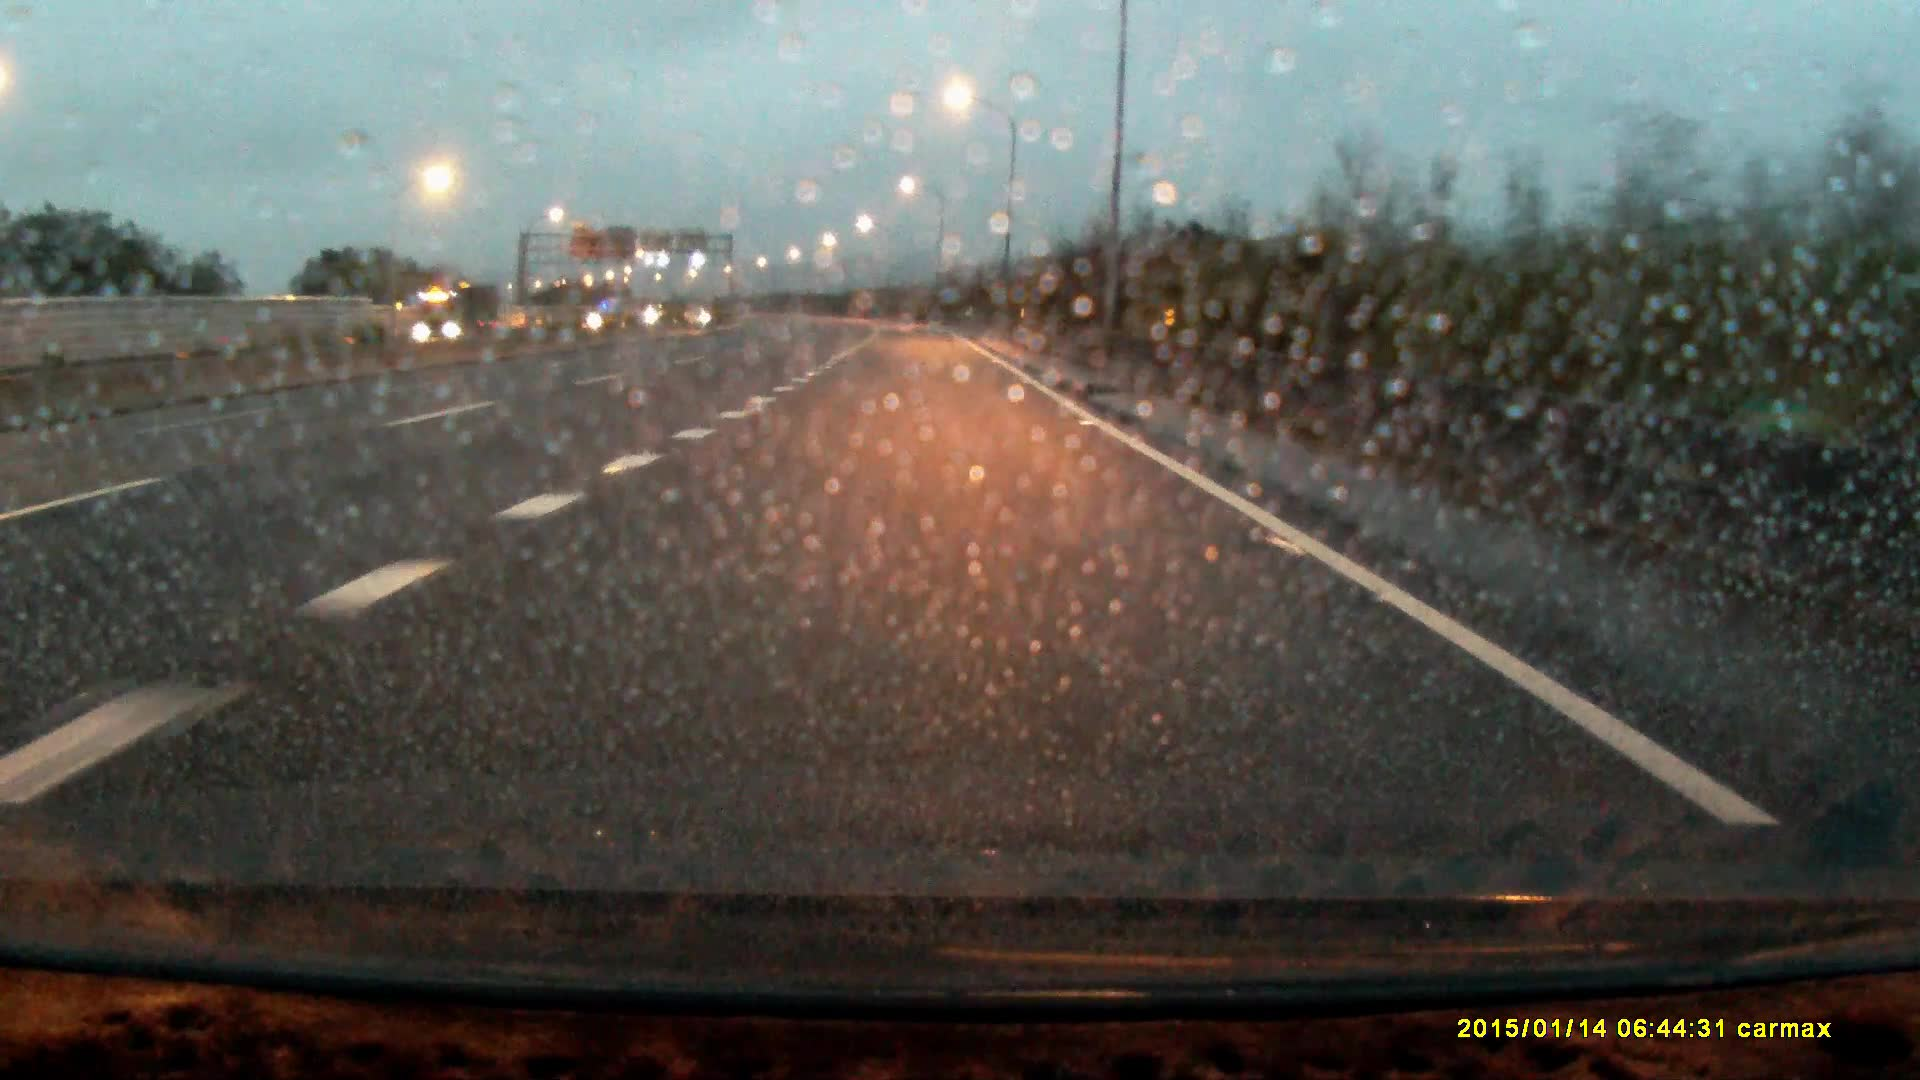vehicle: (415, 290, 484, 343)
